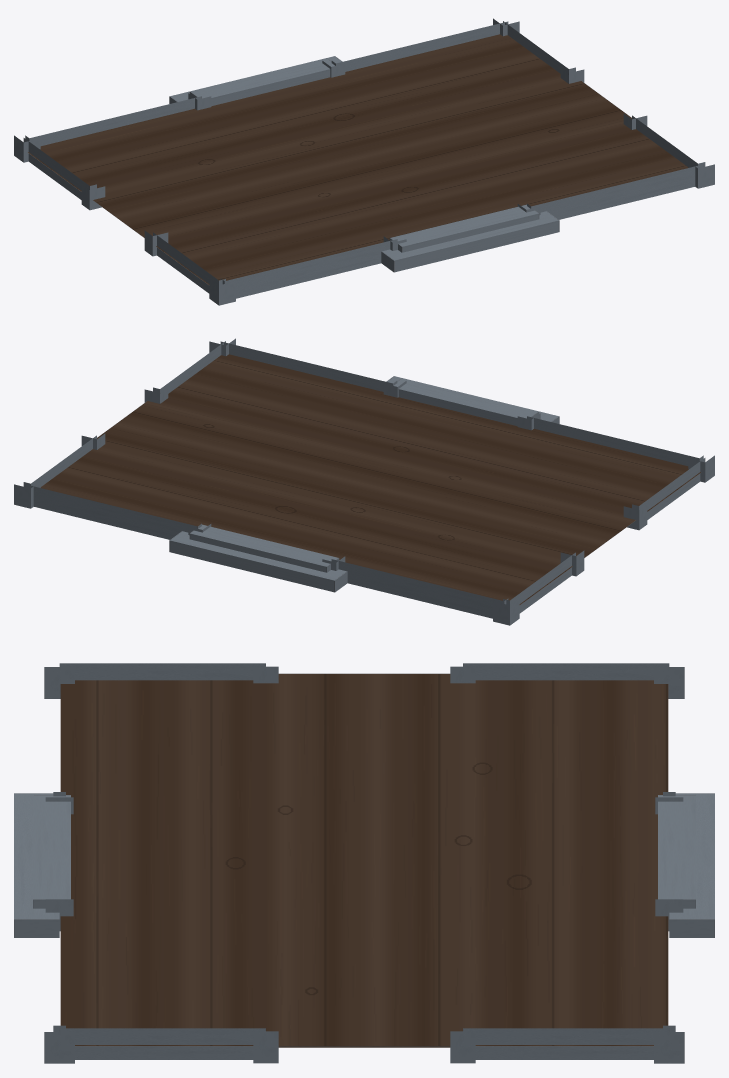
File: Building5Stage1.glb
3 views of the same model, one above another, from view 1: azimuth 30°, elevation 25°; view 2: azimuth 150°, elevation 25°; view 3: azimuth 270°, elevation 25° (orthographic). The views are drawn at different scales.
Visible parts, largest first — view 1: building5_stage1; view 2: building5_stage1; view 3: building5_stage1.
Part boxes in pixels (left/top/right/bottom): building5_stage1: left=14, top=18, right=714, bottom=305; building5_stage1: left=14, top=338, right=714, bottom=625; building5_stage1: left=14, top=663, right=714, bottom=1063.
Bounding box in the file's own units: 13.38 × 0.5244 × 10.49.
Materials: 1 (1 with a texture image).
